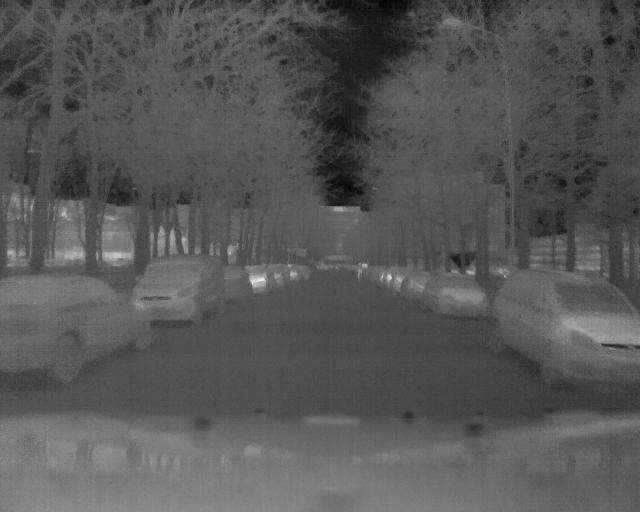car: (487, 269, 640, 388), (1, 276, 155, 381), (132, 253, 228, 325), (419, 273, 487, 318)
